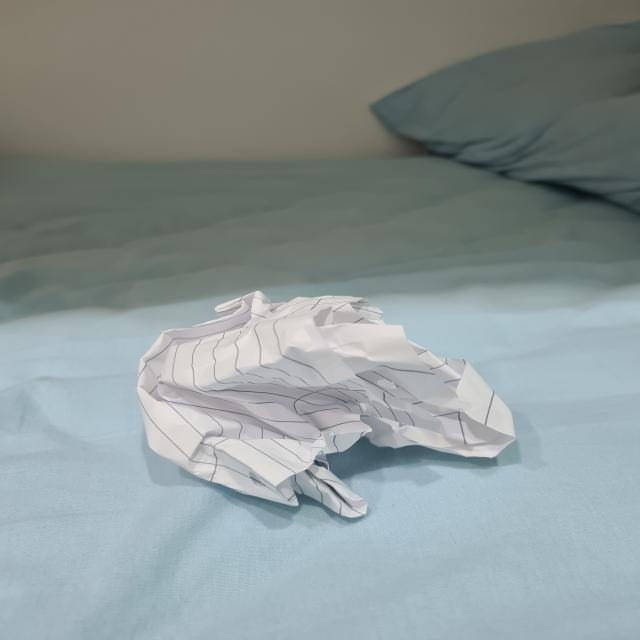Paper: (145, 290, 520, 516)
